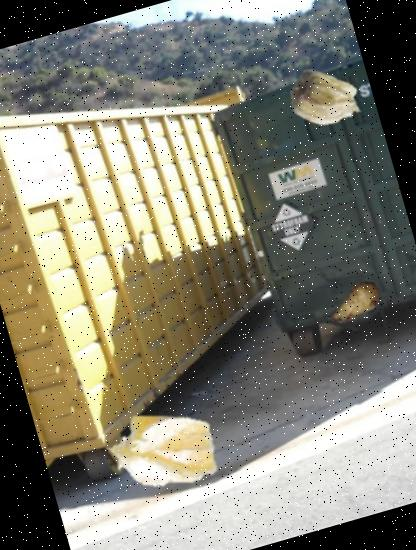Pear: (320, 268, 390, 338)
Physalis: (92, 381, 233, 522), (279, 52, 373, 146)
